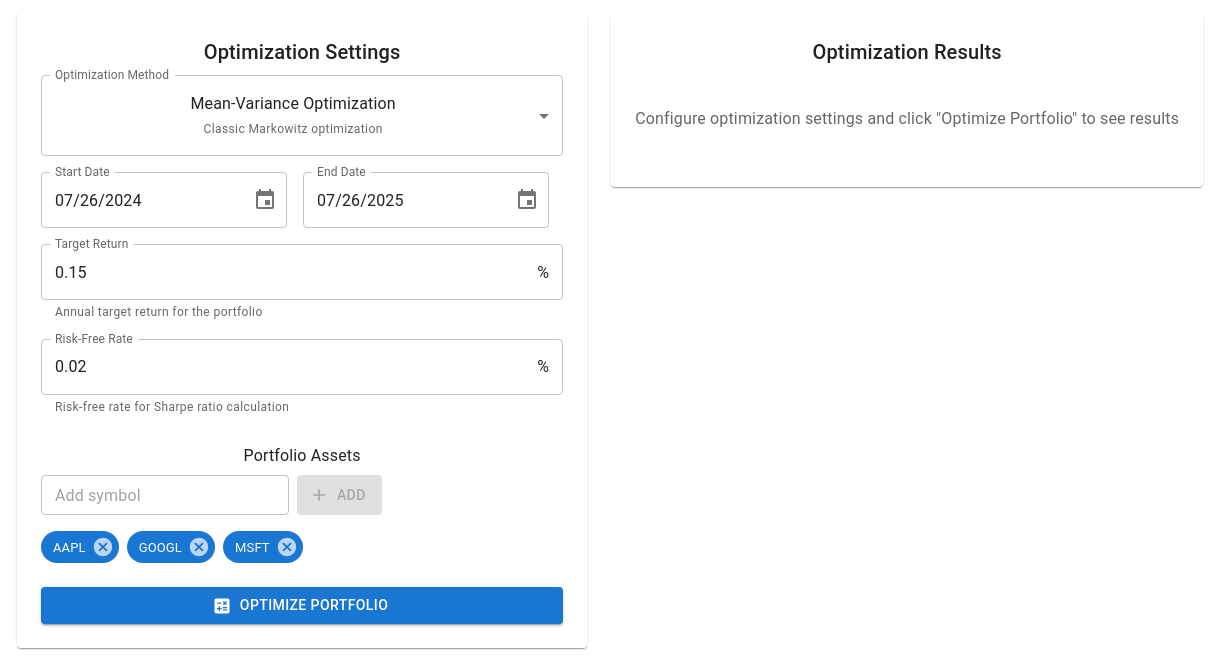
Test case: PortfolioOptimizer › adds new symbol when Add button clicked
Type "TSLA" into the field with placeholder "Add symbol" at (165, 495), box left=41, top=475, right=289, bottom=515
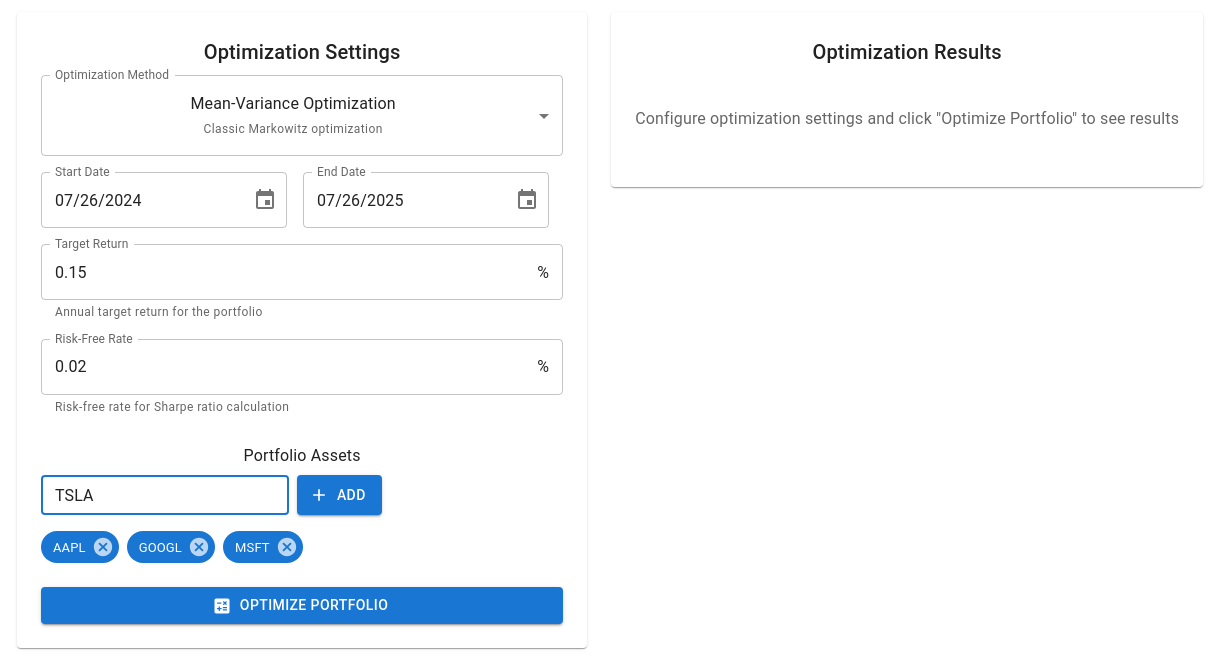
Click the button "Add" at (339, 495), box left=297, top=475, right=382, bottom=515
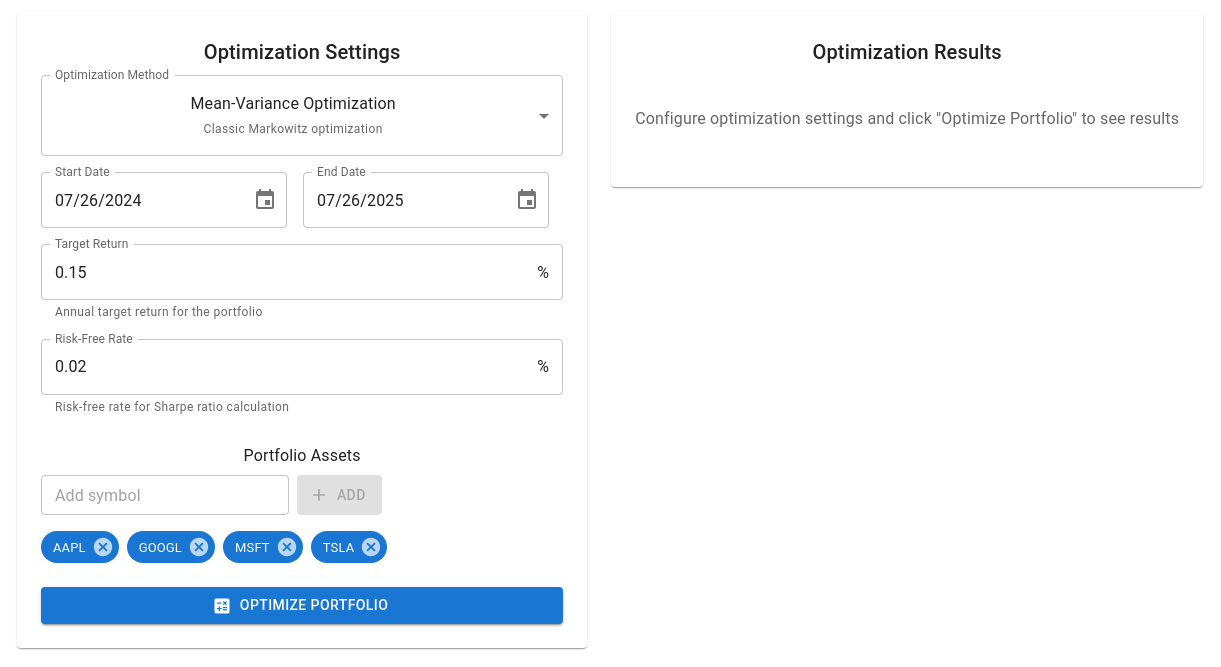
Check: the text "TSLA" is shown, box left=323, top=540, right=354, bottom=555
